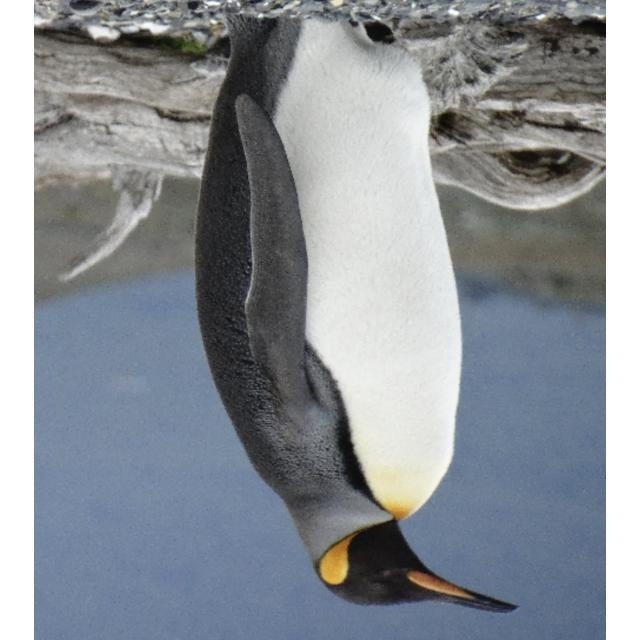penguin: (194, 7, 516, 614)
